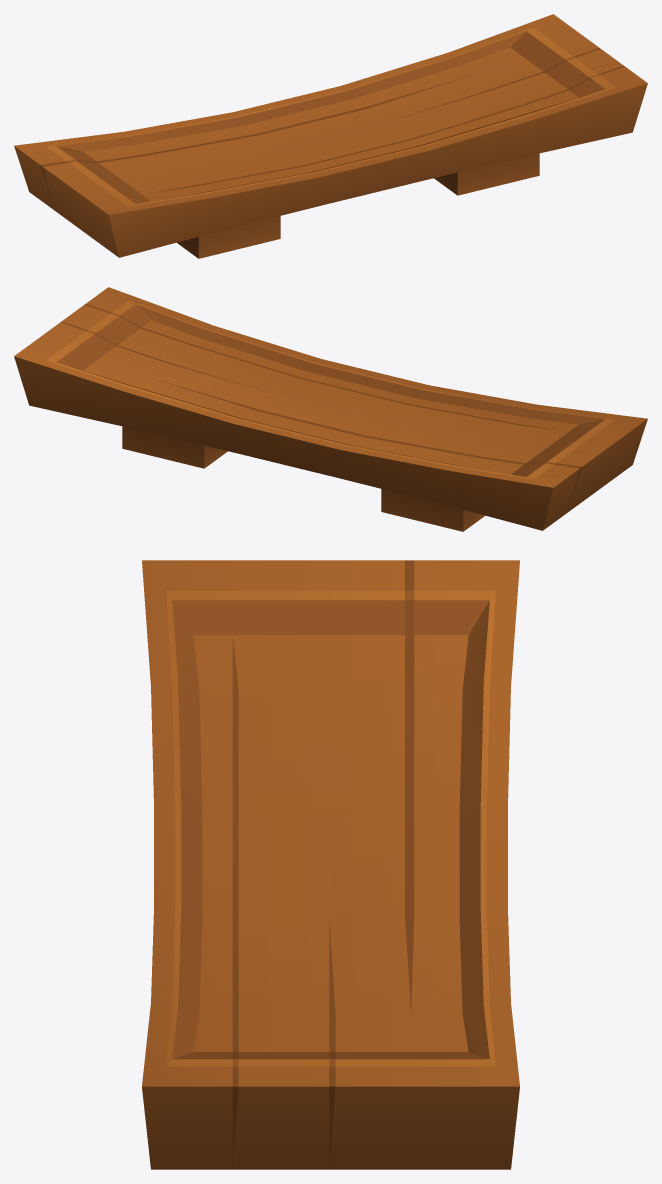
File: wood plate.fbx
The picture shows the model from 3 angles, top to bottom: view 1: azimuth 30°, elevation 25°; view 2: azimuth 150°, elevation 25°; view 3: azimuth 270°, elevation 25°; orthographic projection. The views are drawn at different scales.
Visible parts, largest first — view 1: wood_plate; view 2: wood_plate; view 3: wood_plate.
Part boxes in pixels (x1,y1,x2,y2): wood_plate: [14, 14, 647, 258]; wood_plate: [14, 287, 647, 531]; wood_plate: [142, 560, 519, 1169].
Size of the model in its own units: 18.92 by 2.51 by 5.74.
